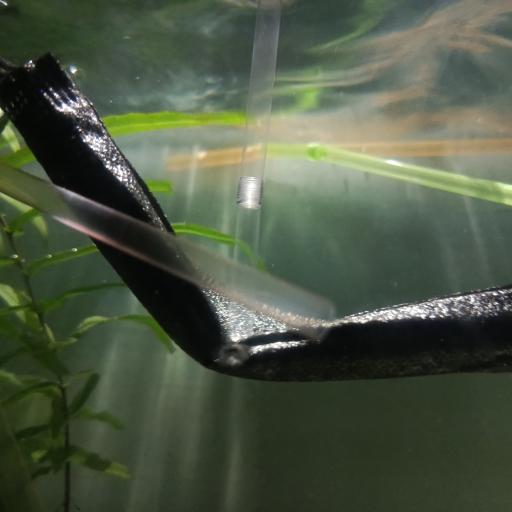mask: (1, 46, 512, 382)
plastic_straw: (2, 162, 337, 342), (267, 141, 512, 208), (231, 0, 285, 292), (162, 137, 512, 173)
